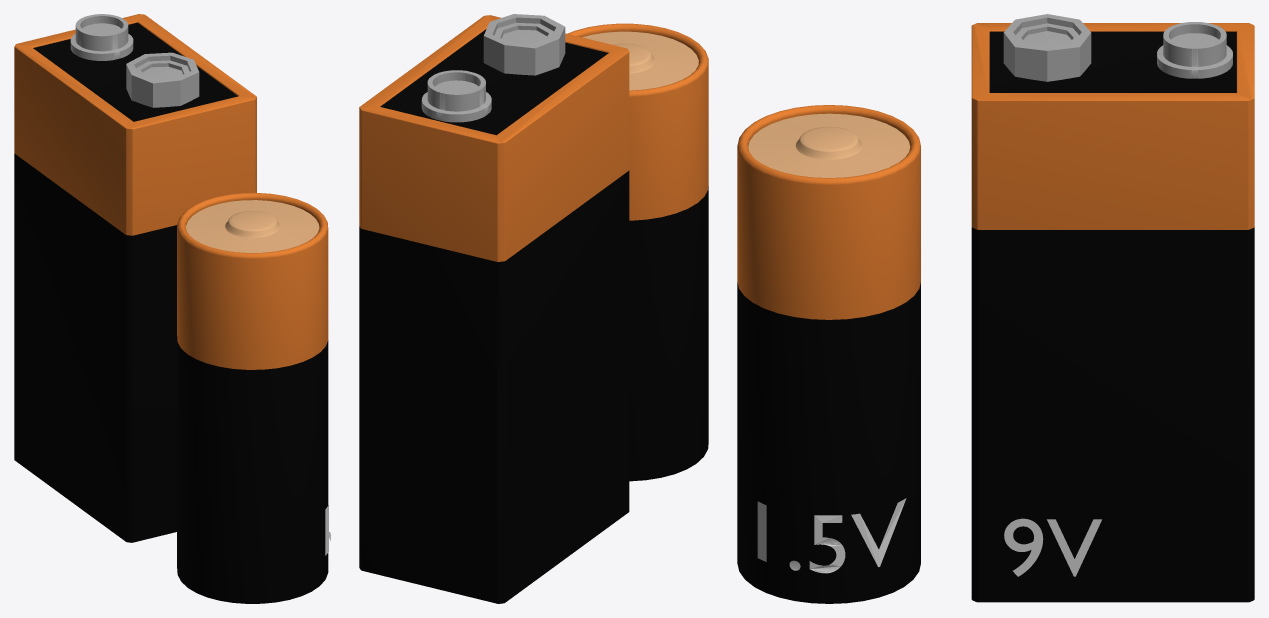
The model's file is Battery.fbx.
The picture shows the model from 3 angles, left to right: view 1: azimuth 30°, elevation 25°; view 2: azimuth 150°, elevation 25°; view 3: azimuth 270°, elevation 25°; orthographic projection. The views are drawn at different scales.
Visible parts, largest first — view 1: Куб.002, Цилиндр, Куб.003, Цилиндр.002; view 2: Куб.002, Цилиндр, Куб.003, Цилиндр.002; view 3: Куб.002, Цилиндр, Куб.003, Цилиндр.002, Текст.001, Текст.
Boxes of the visible parts, x1=… form: Куб.002: x1=14, y1=14, x2=256, y2=542; Цилиндр: x1=177, y1=193, x2=328, y2=603; Куб.003: x1=126, y1=52, x2=199, y2=107; Цилиндр.002: x1=70, y1=14, x2=133, y2=60; Куб.002: x1=359, y1=15, x2=629, y2=603; Цилиндр: x1=567, y1=23, x2=708, y2=481; Куб.003: x1=483, y1=14, x2=565, y2=75; Цилиндр.002: x1=421, y1=70, x2=491, y2=122; Куб.002: x1=971, y1=23, x2=1254, y2=602; Цилиндр: x1=737, y1=105, x2=920, y2=603; Куб.003: x1=1003, y1=14, x2=1091, y2=81; Цилиндр.002: x1=1157, y1=22, x2=1232, y2=78; Текст.001: x1=757, y1=498, x2=906, y2=573; Текст: x1=1004, y1=518, x2=1101, y2=576.
Bounding box in the file's own units: 204 × 641 × 563.
